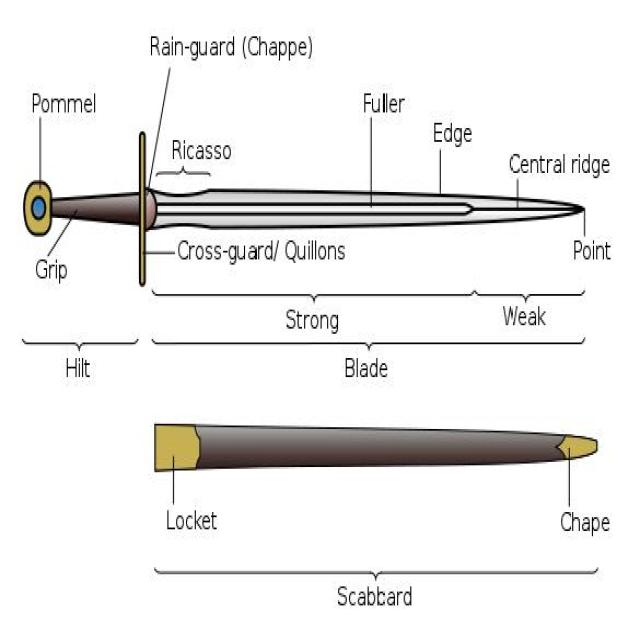weapon: (22, 128, 586, 291)
